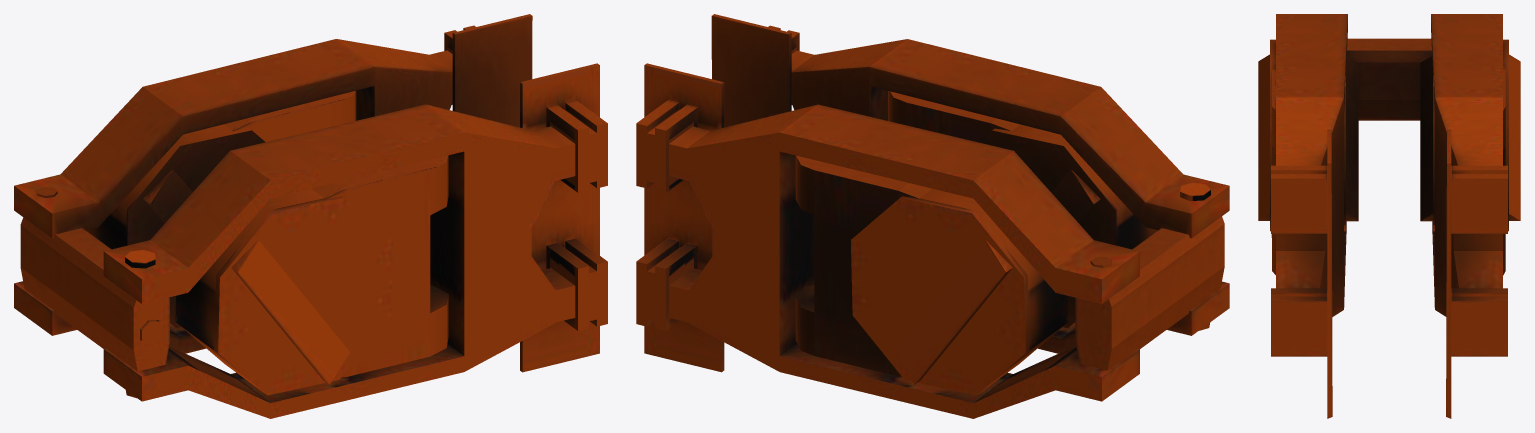
The model's file is zawaoian002.FBX.
3 renders of one model, left to right at view 1: azimuth 30°, elevation 25°; view 2: azimuth 150°, elevation 25°; view 3: azimuth 270°, elevation 25°, orthographic. The views are drawn at different scales.
Parts seen in each view (by area): view 1: Object083; view 2: Object083; view 3: Object083.
Part boxes in pixels (x1,y1,x2,y2): Object083: (14,14,607,418); Object083: (636,14,1229,418); Object083: (1258,14,1520,418).
Bounding box in the file's own units: 0.5781 × 0.3262 × 0.303.
